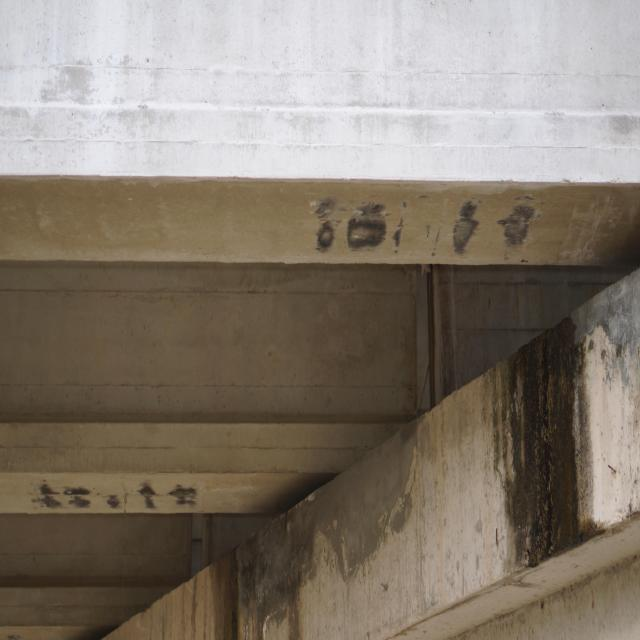Rebar: (282, 513, 288, 540), (607, 464, 618, 475), (494, 528, 499, 548)
multi-branched crack: (494, 375, 526, 503)
vertical crack: (118, 470, 130, 514)
